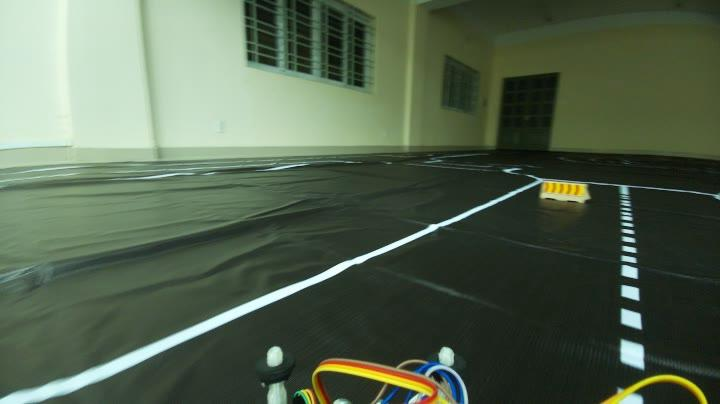roadblock: (540, 176, 594, 208)
